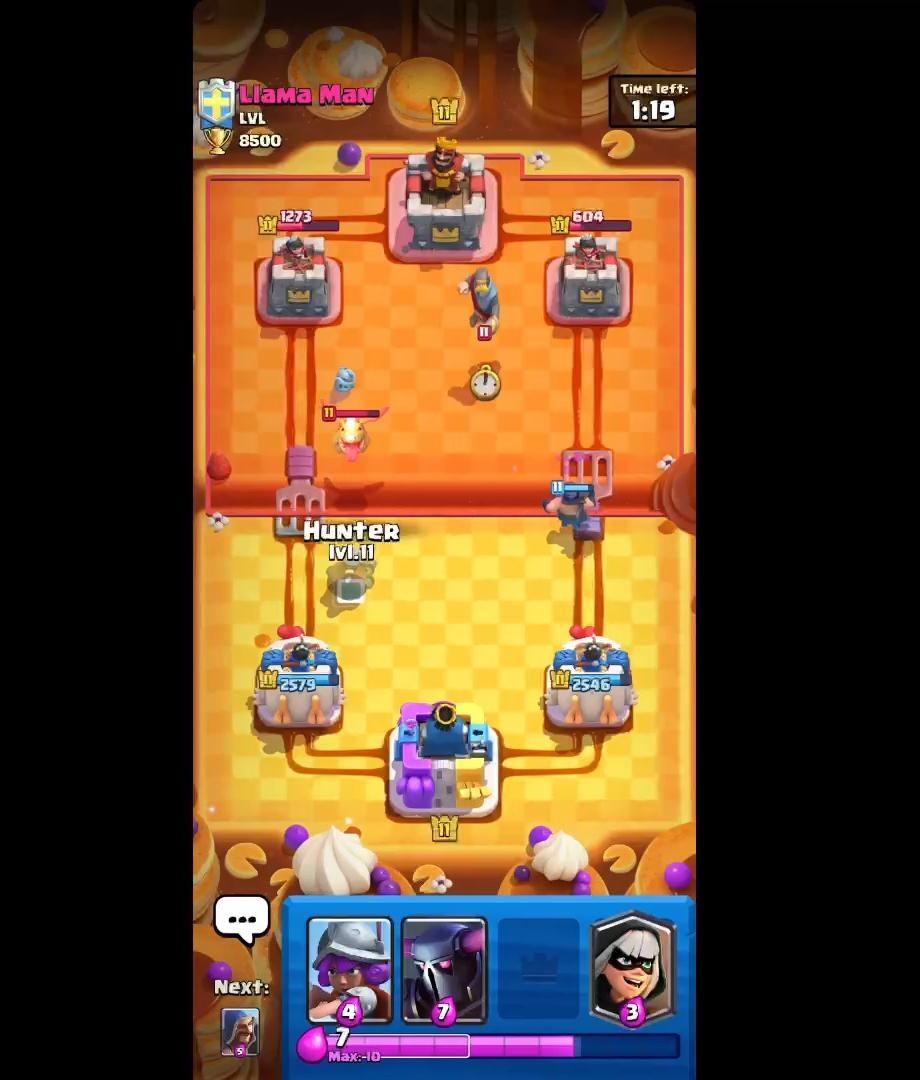Baby Dragon: (317, 401, 392, 465)
Knight: (454, 258, 507, 347)
